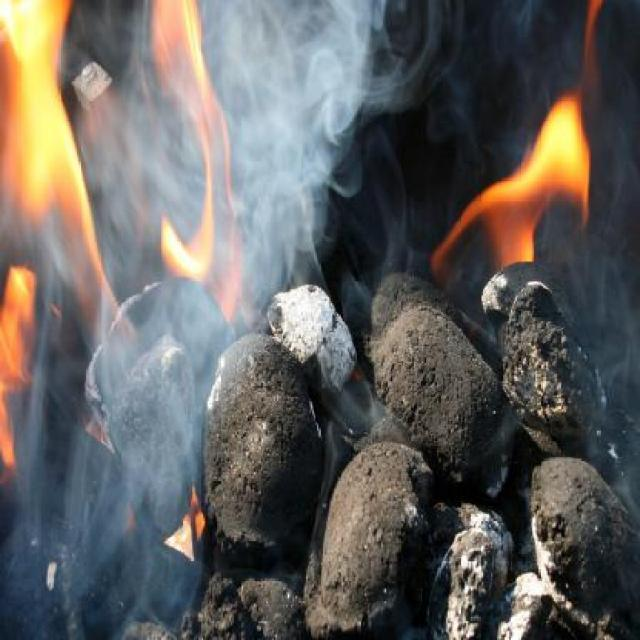Fire: (432, 98, 594, 276), (148, 2, 242, 296), (0, 0, 102, 254), (1, 260, 39, 472)
